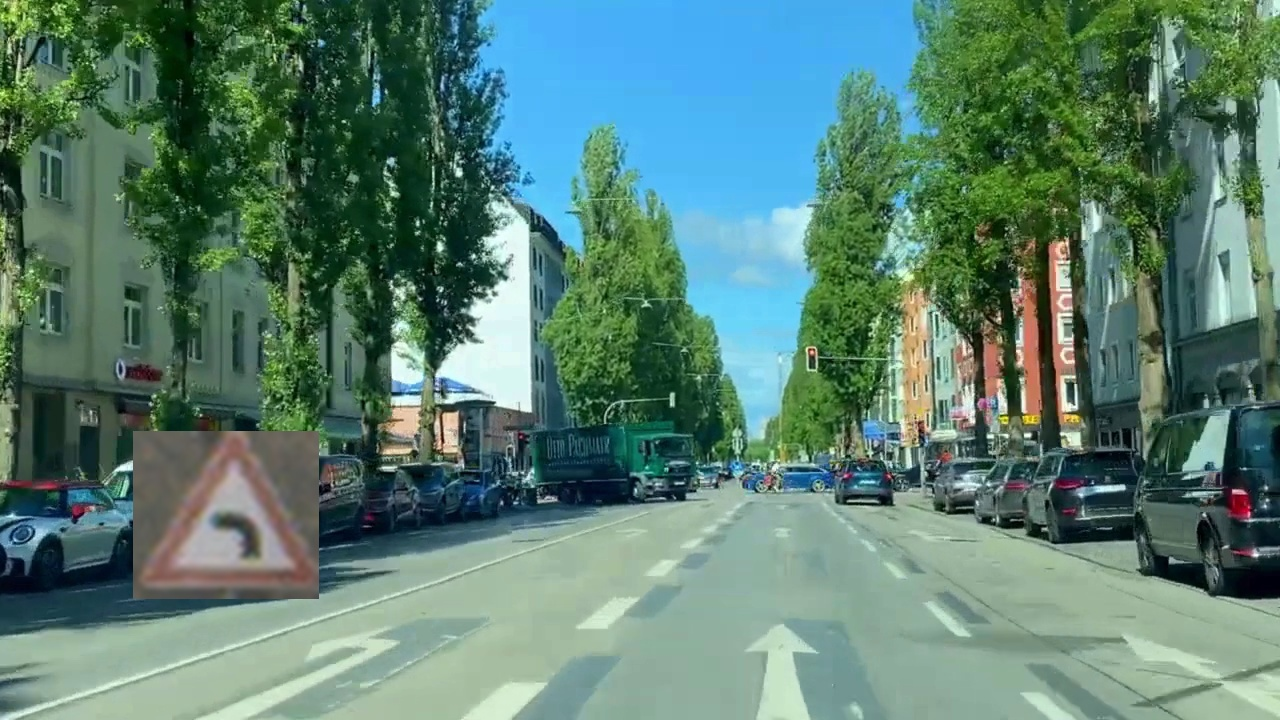Curve left: (133, 431, 319, 599)
